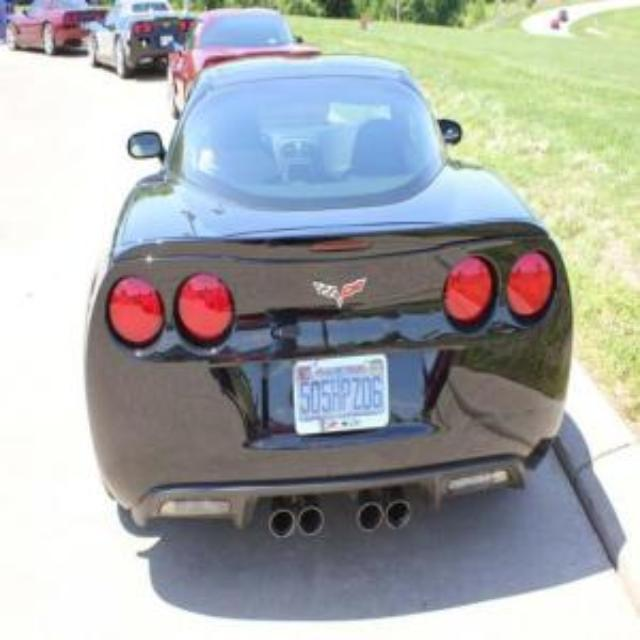License Plate: (295, 355, 389, 435), (160, 36, 174, 46)
